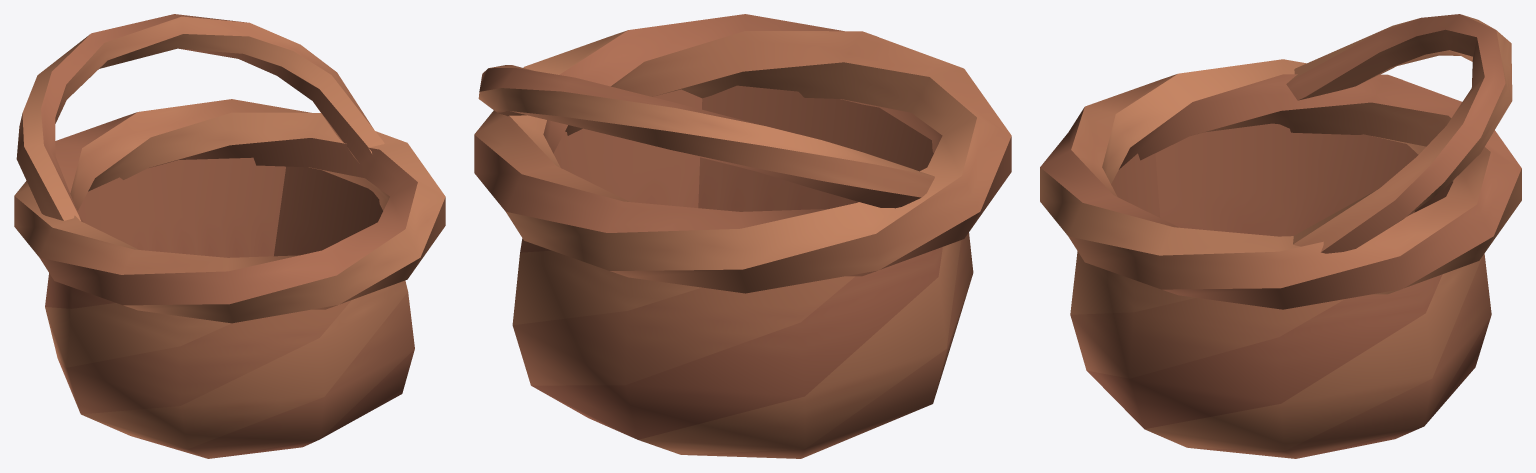
File: Food_Basket_A_Empty.gltf
3 views of the same model, side by side, from view 1: azimuth 30°, elevation 25°; view 2: azimuth 150°, elevation 25°; view 3: azimuth 270°, elevation 25° (orthographic). The views are drawn at different scales.
Parts seen in each view (by area): view 1: Food_Basket_A_Empty; view 2: Food_Basket_A_Empty; view 3: Food_Basket_A_Empty.
Part boxes in pixels (x1,y1,x2,y2): Food_Basket_A_Empty: [14, 14, 445, 458]; Food_Basket_A_Empty: [474, 14, 1011, 458]; Food_Basket_A_Empty: [1040, 14, 1521, 458].
Bounding box in the file's own units: 0.8506 × 0.6798 × 0.834.
Materials: 1 (1 with a texture image).
